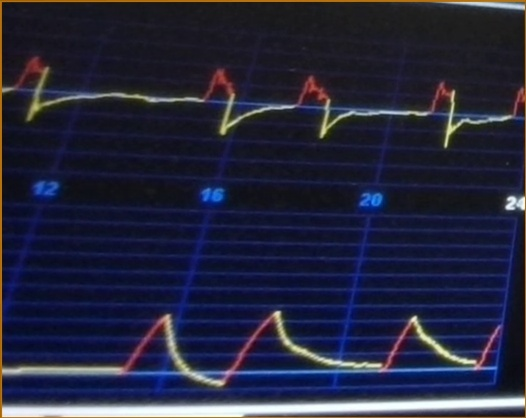Accumulation Flow: (1, 33, 524, 166)
Volume: (2, 287, 502, 391)
